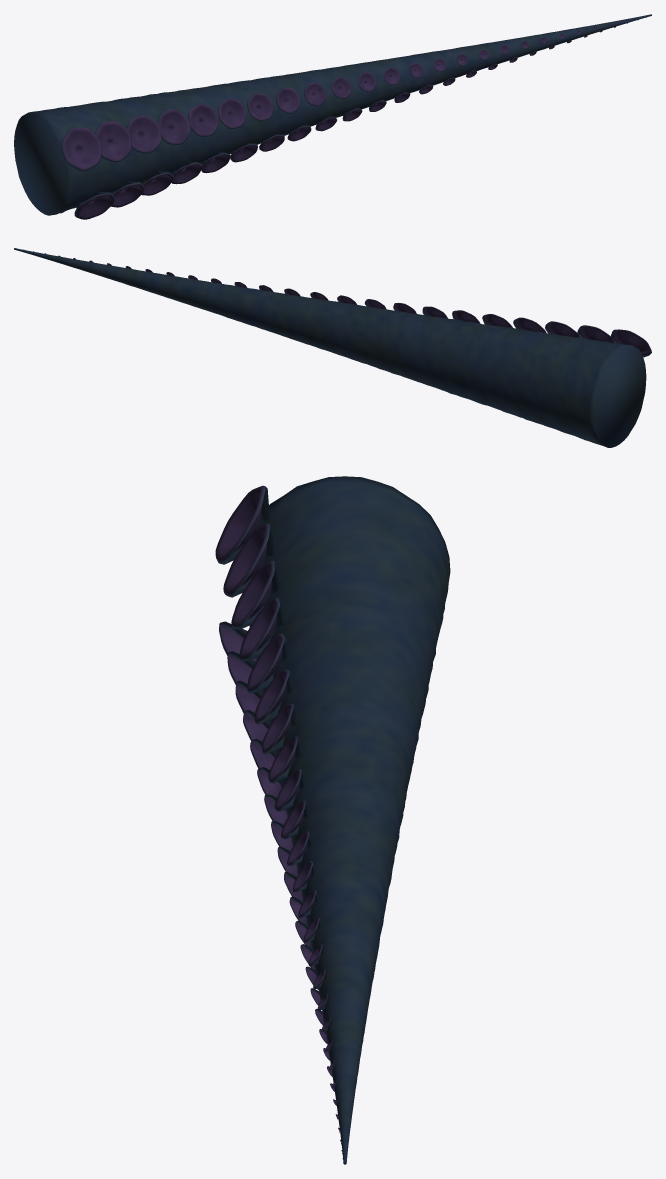
The model's file is reiko-arm.glb.
3 renders of one model, top to bottom at view 1: azimuth 30°, elevation 25°; view 2: azimuth 150°, elevation 25°; view 3: azimuth 270°, elevation 25°, orthographic. The views are drawn at different scales.
Parts seen in each view (by area): view 1: Reiko arm / real cups; view 2: Reiko arm / real cups; view 3: Reiko arm / real cups.
Boxes of the visible parts, left/top/right/bottom form: Reiko arm / real cups: left=14, top=14, right=651, bottom=219; Reiko arm / real cups: left=14, top=248, right=651, bottom=447; Reiko arm / real cups: left=215, top=476, right=450, bottom=1164.
Bounding box in the file's own units: 10.07 × 1.5 × 1.68.
